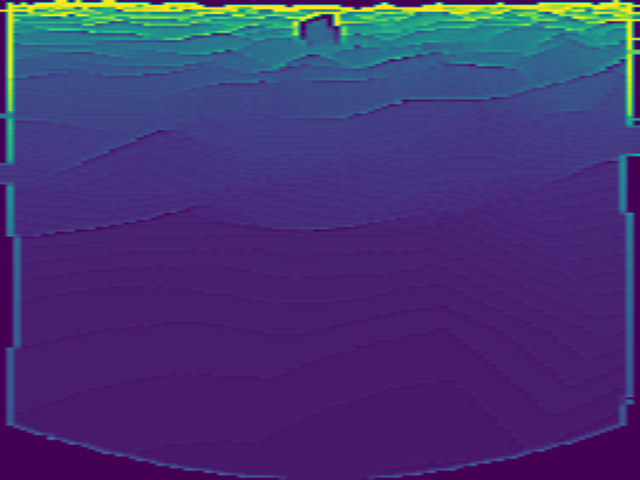car_0198: (296, 16, 344, 48)
